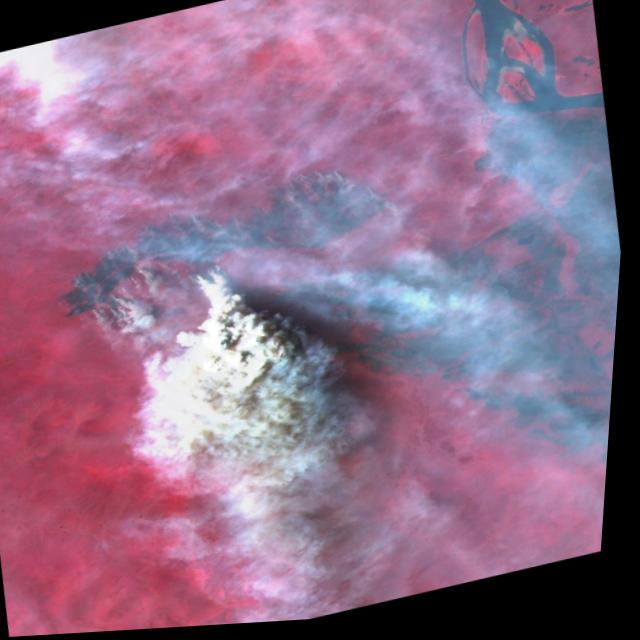fire: (43, 140, 450, 357)
